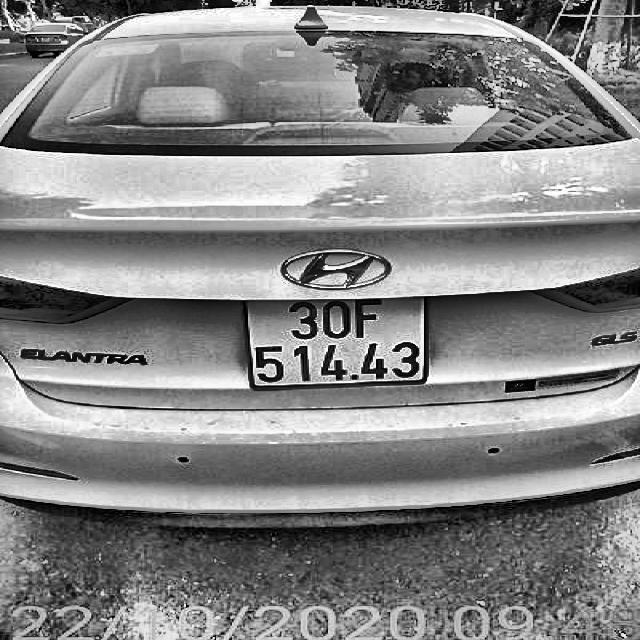plate: (238, 288, 434, 391)
